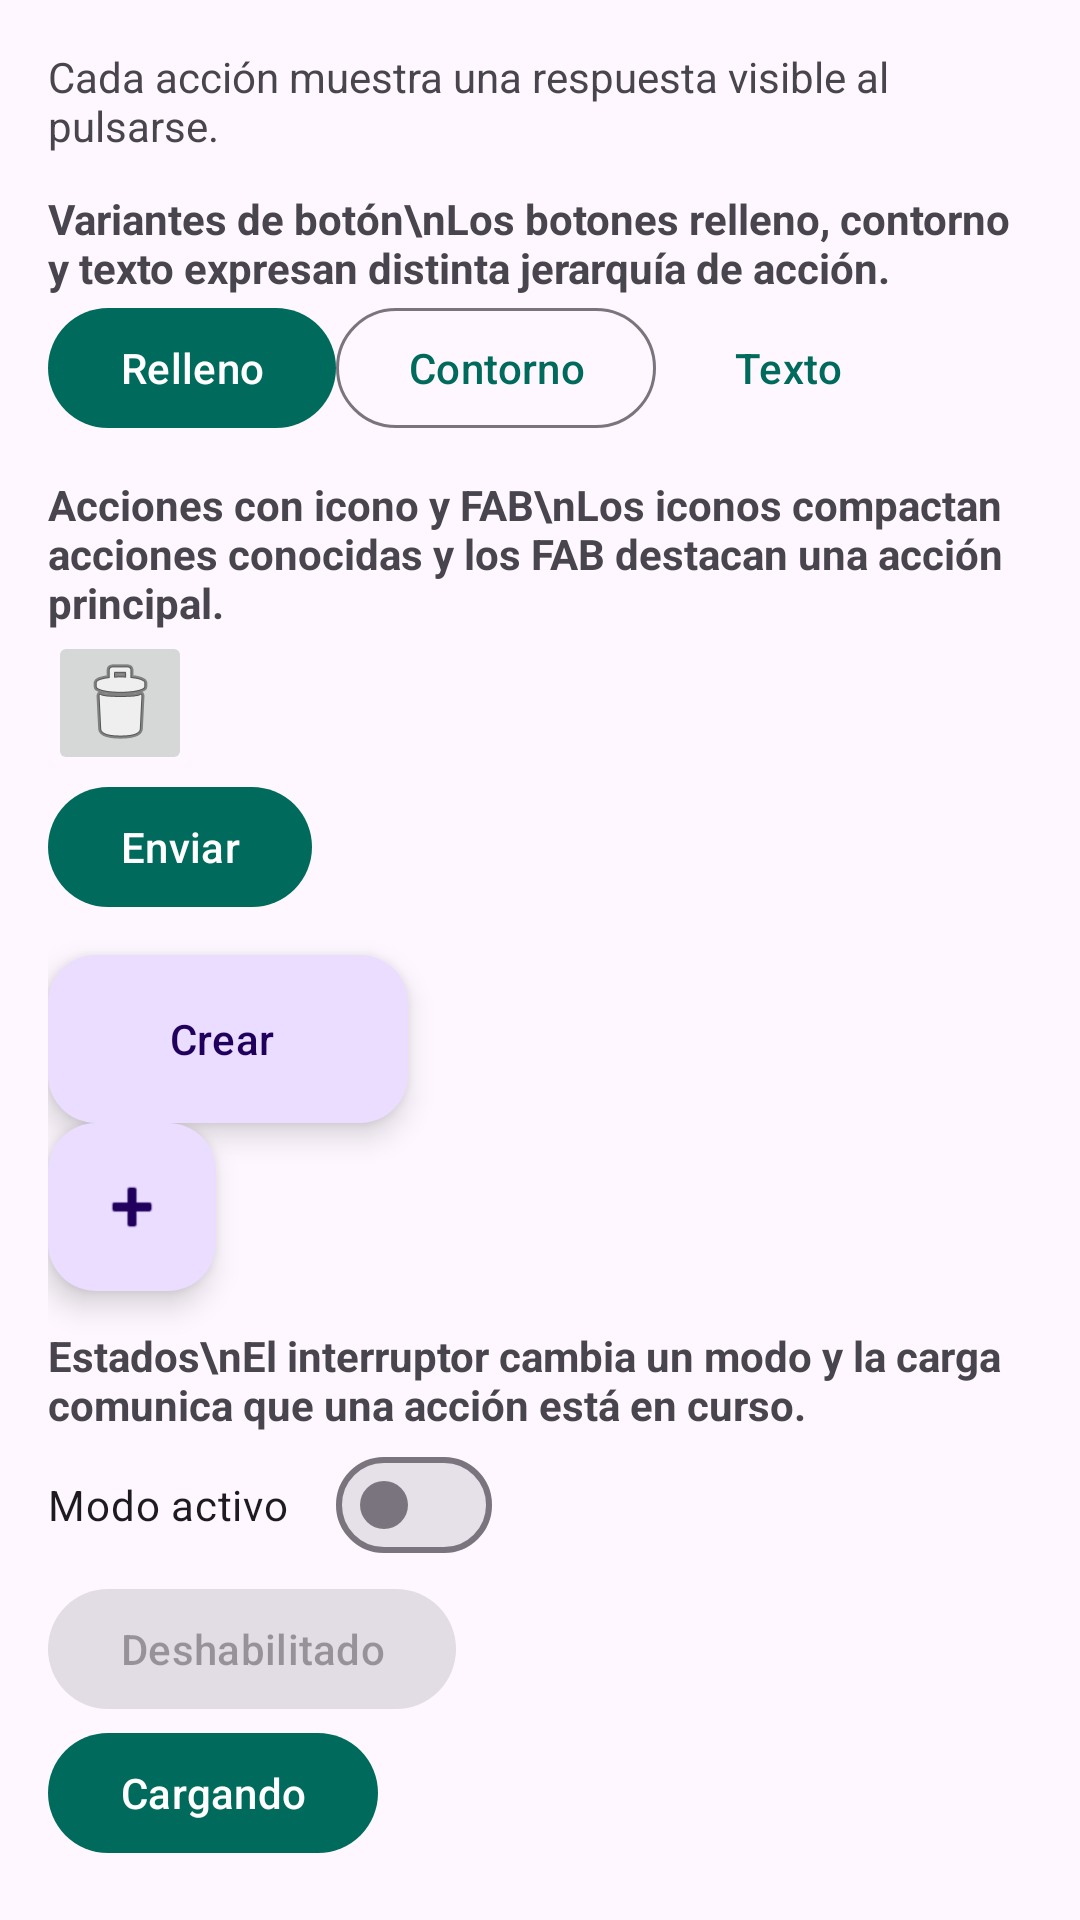

Named icons in this screenshot (1080px x 1920px) and their centers, point (x, y):
Agregar: point (132, 1207)
Eliminar: point (120, 703)
